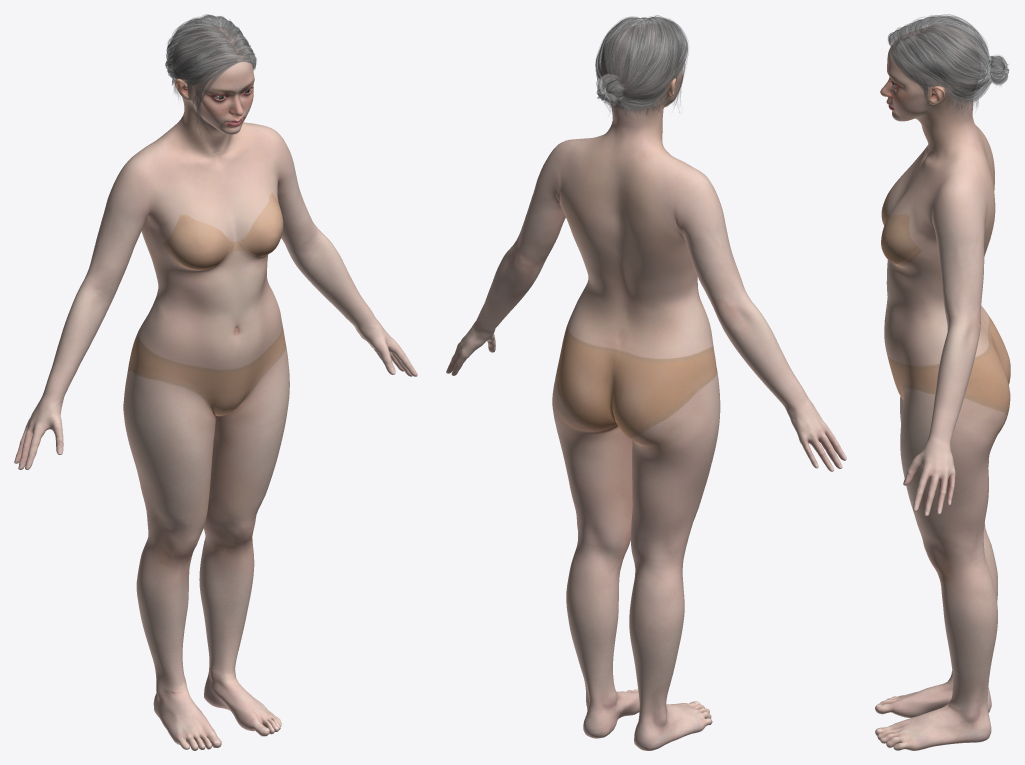
Rendered from avatar-for-brands.glb.
3 renders of one model, left to right at view 1: azimuth 30°, elevation 25°; view 2: azimuth 150°, elevation 25°; view 3: azimuth 270°, elevation 25°, orthographic.
Parts seen in each view (by area): view 1: Node; view 2: Node; view 3: Node.
Boxes of the visible parts, <box> form: Node: <box>14,14,417,750</box>; Node: <box>446,15,846,750</box>; Node: <box>875,14,1010,750</box>.
Bounding box in the file's own units: 0.9457 × 1.63 × 0.282.
Materials: 8 (8 with a texture image).
